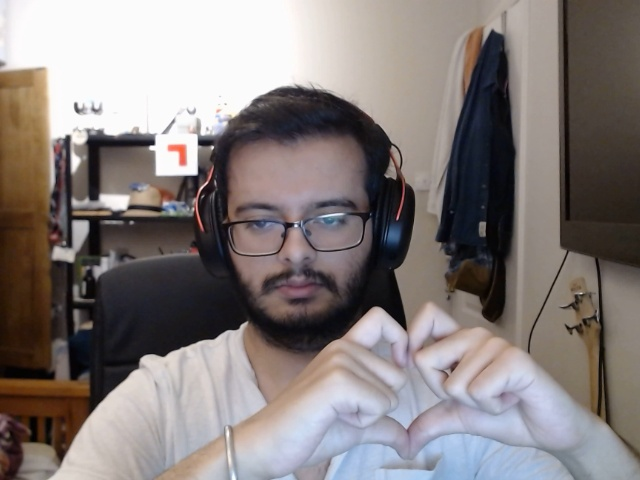Heart: (242, 298, 581, 457)
